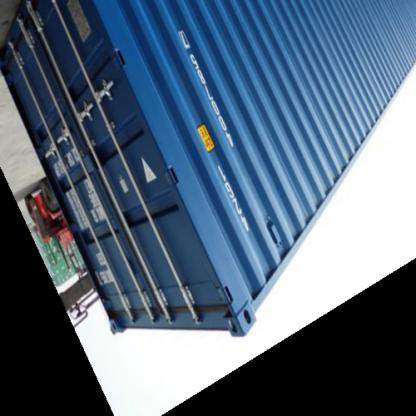Damage: (110, 303, 228, 319)
